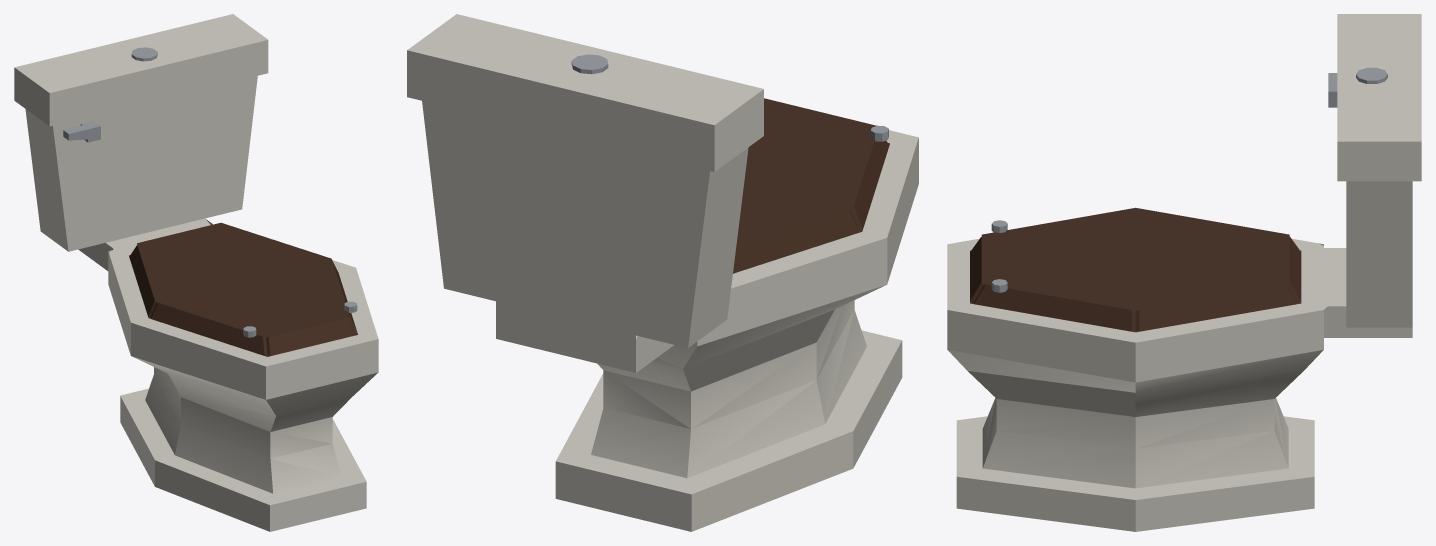
File: toilet.glb
3 renders of one model, left to right at view 1: azimuth 30°, elevation 25°; view 2: azimuth 150°, elevation 25°; view 3: azimuth 270°, elevation 25°, orthographic. The views are drawn at different scales.
Visible parts, largest first — view 1: toilet(Clone), cover; view 2: toilet(Clone), cover; view 3: toilet(Clone), cover.
Part boxes in pixels (x1=…): toilet(Clone): x1=14, y1=14, x2=378, y2=531; cover: x1=129, y1=222, x2=357, y2=356; toilet(Clone): x1=407, y1=14, x2=918, y2=531; cover: x1=733, y1=98, x2=889, y2=273; toilet(Clone): x1=947, y1=14, x2=1421, y2=531; cover: x1=970, y1=207, x2=1301, y2=332.
Size of the model in its own units: 0.3126 by 0.451 by 0.4772.
